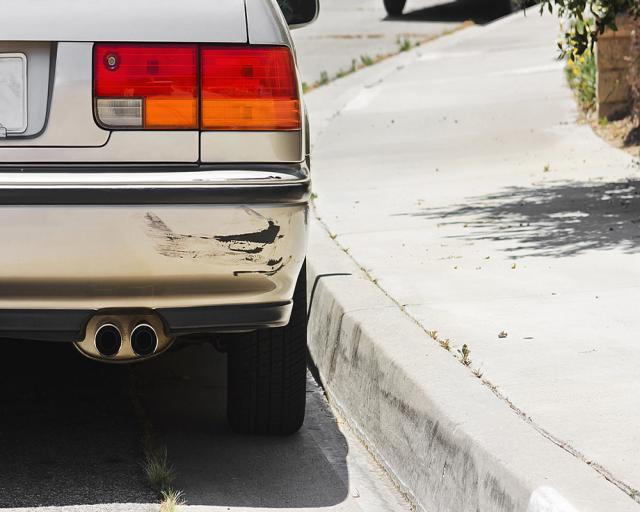scratch: (138, 206, 293, 278)
